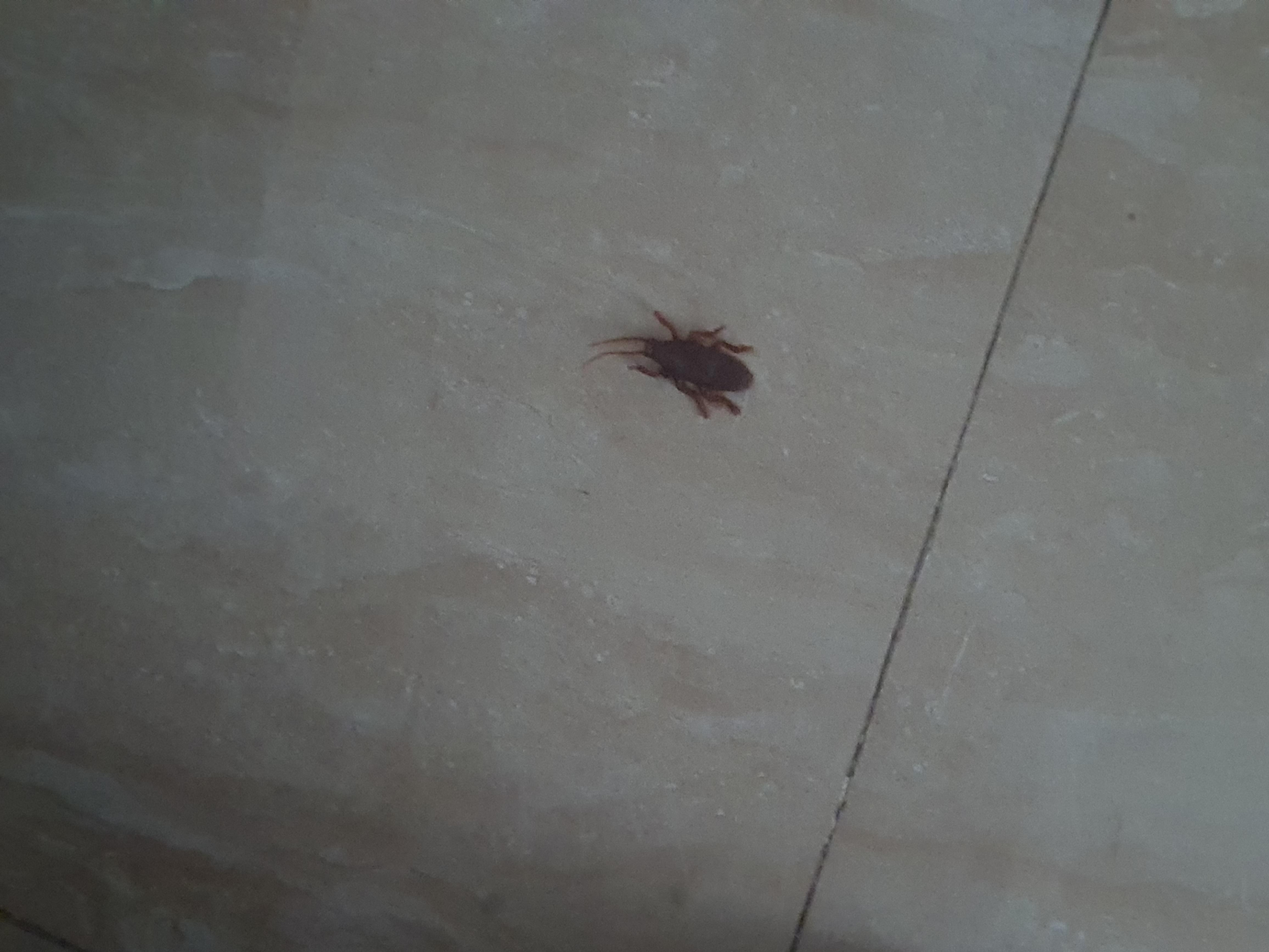cockroach: (704, 437, 857, 582)
